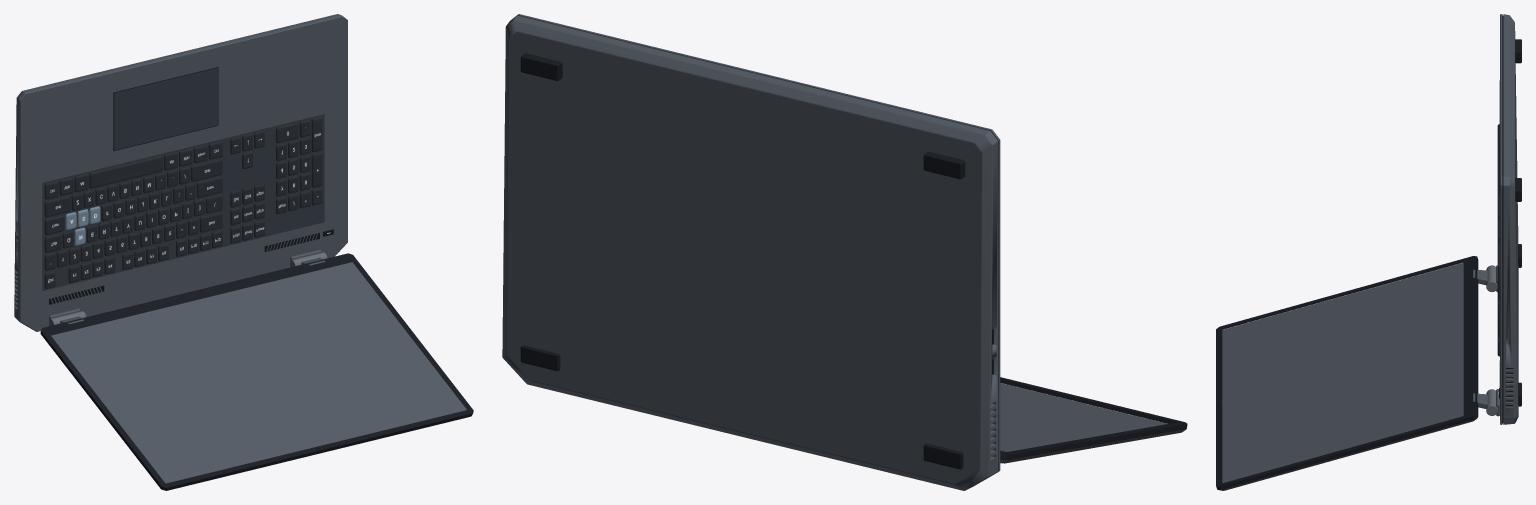
File: gaming-laptop.glb
The picture shows the model from 3 angles, left to right: view 1: azimuth 30°, elevation 25°; view 2: azimuth 150°, elevation 25°; view 3: azimuth 270°, elevation 25°; orthographic projection. The views are drawn at different scales.
Visible parts, largest first — view 1: Gaming laptop authored assembly; view 2: Gaming laptop authored assembly; view 3: Gaming laptop authored assembly.
Part boxes in pixels (x1,y1,x2,y2): Gaming laptop authored assembly: [14, 14, 473, 490]; Gaming laptop authored assembly: [502, 14, 1187, 490]; Gaming laptop authored assembly: [1216, 14, 1521, 490].
Bounding box in the file's own units: 0.374 × 0.3288 × 0.2871.
10 materials, 1 textured.
